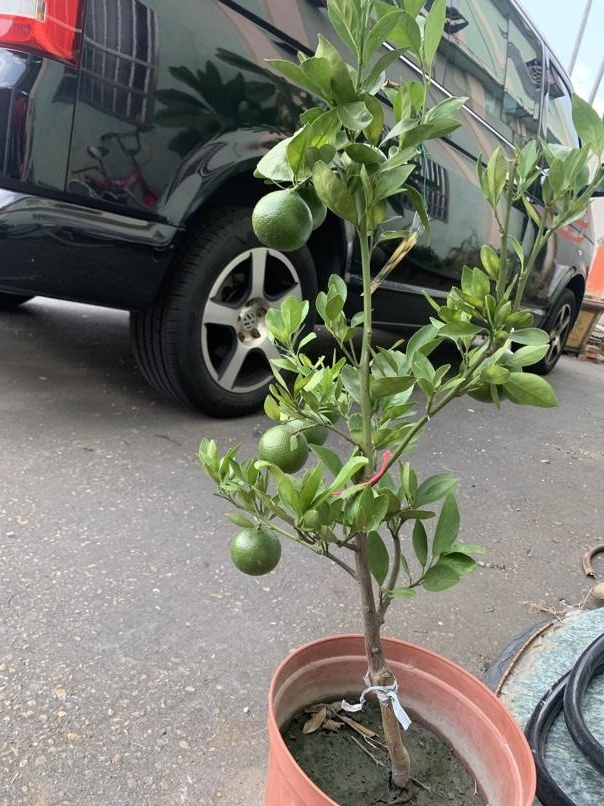Tangerine: (253, 185, 314, 253), (228, 518, 284, 576), (257, 422, 307, 476)
